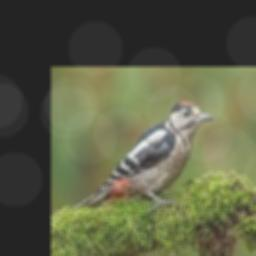Woodpecker: (74, 101, 214, 210)
